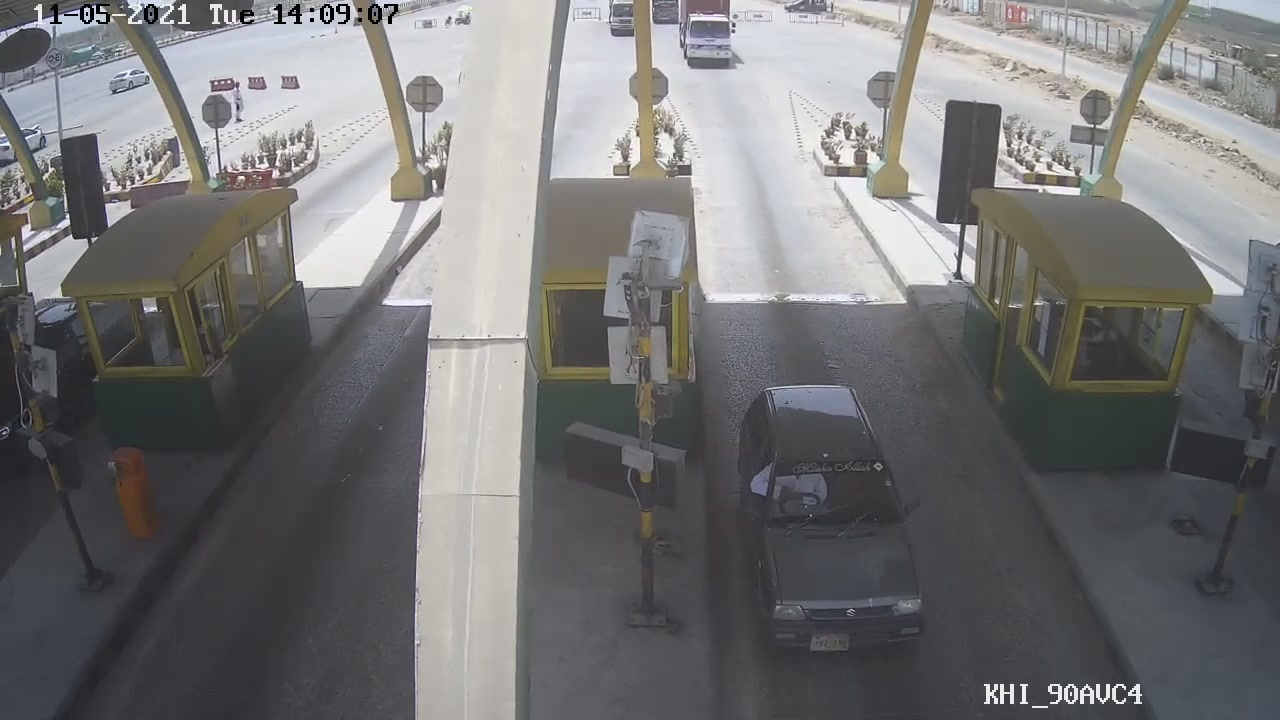F1: (733, 374, 930, 659)
